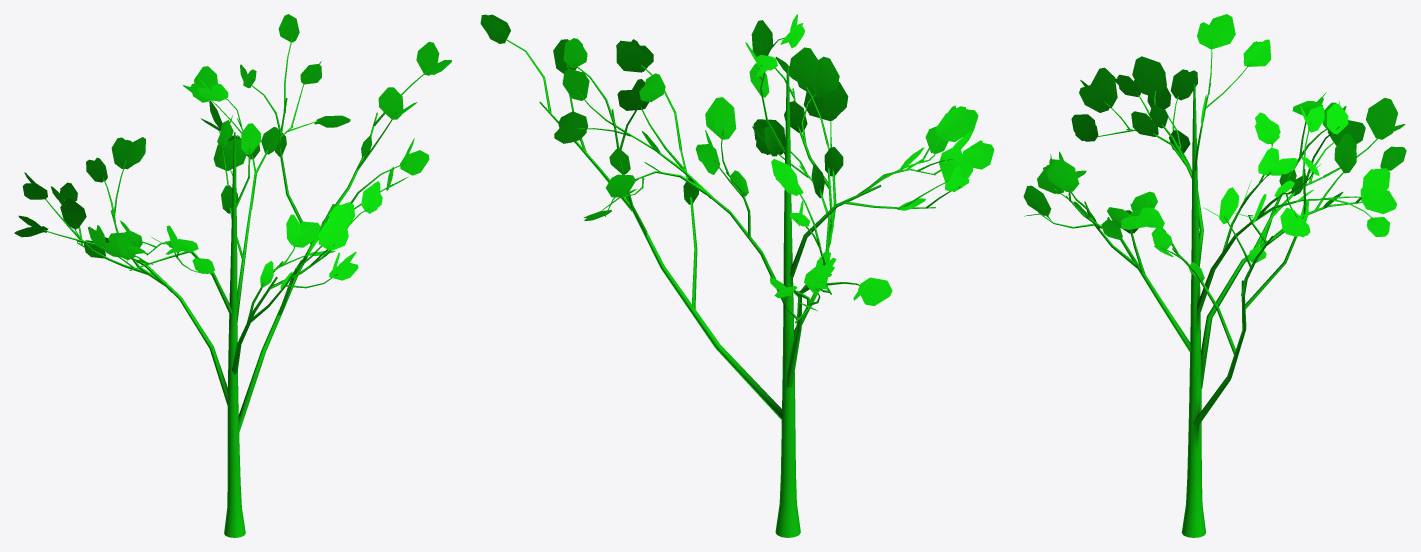
File: tree_maple_b.glb
The picture shows the model from 3 angles, left to right: view 1: azimuth 30°, elevation 25°; view 2: azimuth 150°, elevation 25°; view 3: azimuth 270°, elevation 25°; orthographic projection. The views are drawn at different scales.
Visible parts, largest first — view 1: tree_maple_b.1, tree_maple_b.0; view 2: tree_maple_b.1, tree_maple_b.0; view 3: tree_maple_b.1, tree_maple_b.0.
Part boxes in pixels (x1=…): tree_maple_b.1: x1=14, y1=14, x2=451, y2=290; tree_maple_b.0: x1=43, y1=38, x2=431, y2=537; tree_maple_b.1: x1=480, y1=14, x2=994, y2=311; tree_maple_b.0: x1=506, y1=37, x2=960, y2=537; tree_maple_b.1: x1=1023, y1=14, x2=1406, y2=281; tree_maple_b.0: x1=1038, y1=40, x2=1387, y2=537.
Bounding box in the file's own units: 15.44 × 17.04 × 11.69.
